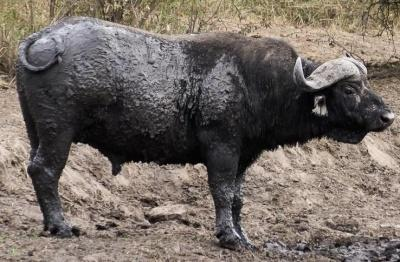buffalo: (16, 17, 394, 248)
